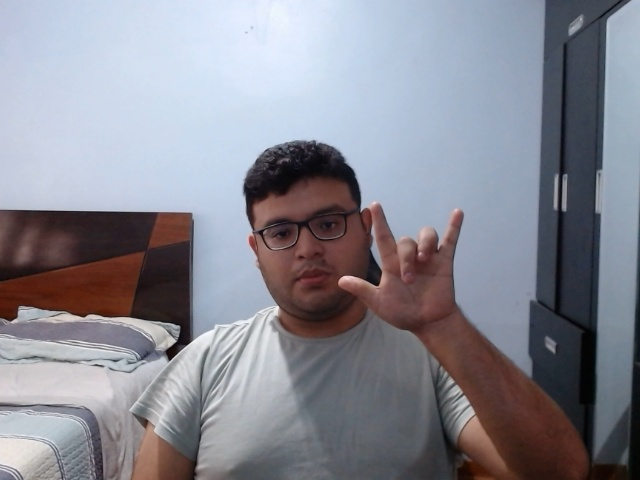I love you: (336, 199, 467, 336)
